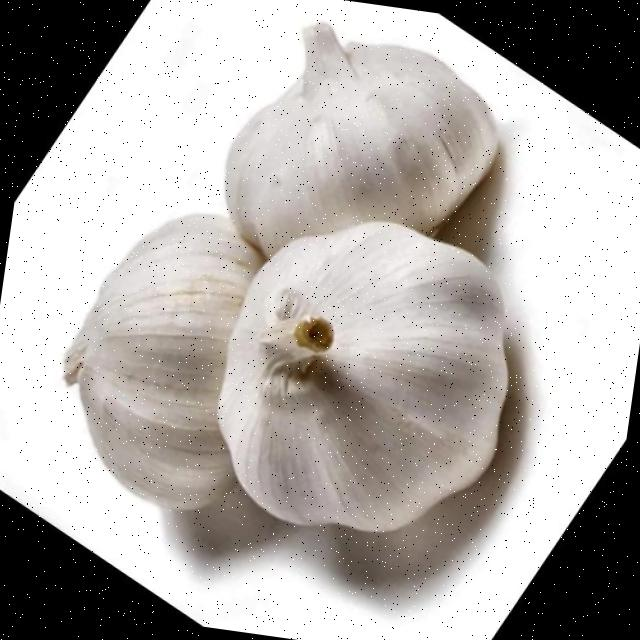garlic: (217, 223, 507, 532), (226, 23, 497, 257), (65, 214, 262, 510)
